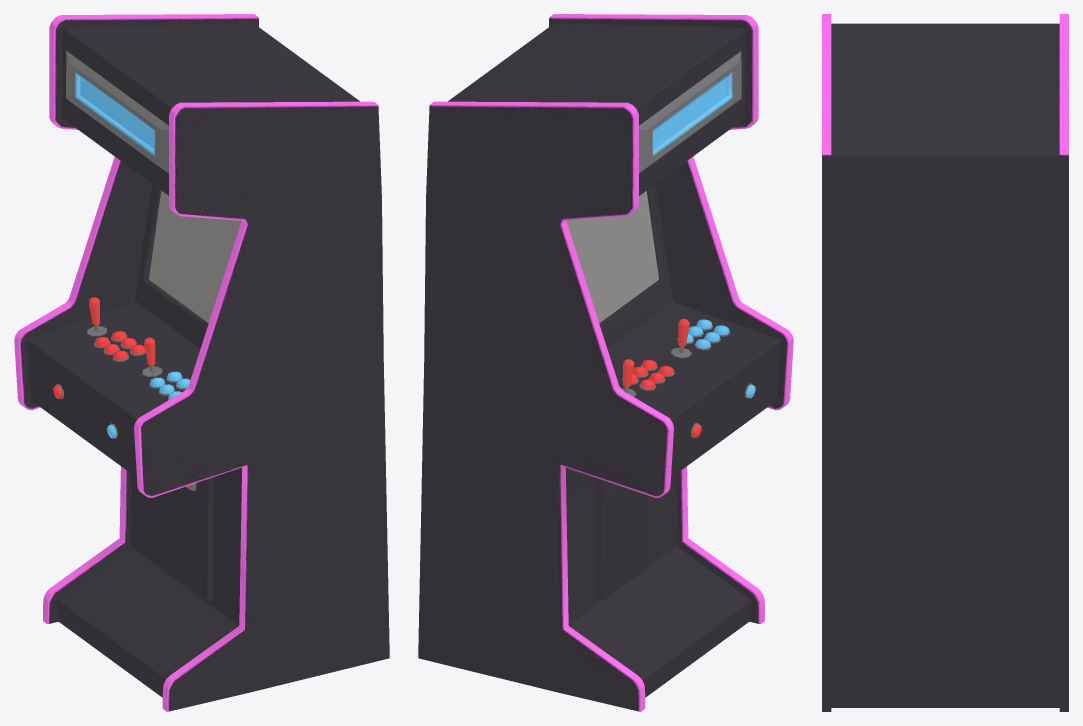
File: arcade_machine.glb
3 renders of one model, left to right at view 1: azimuth 30°, elevation 25°; view 2: azimuth 150°, elevation 25°; view 3: azimuth 270°, elevation 25°, orthographic.
Visible parts, largest first — view 1: defaultMaterial; view 2: defaultMaterial; view 3: defaultMaterial.
Boxes of the visible parts, x1=… form: defaultMaterial: x1=14, y1=14, x2=389, y2=711; defaultMaterial: x1=418, y1=14, x2=793, y2=711; defaultMaterial: x1=822, y1=14, x2=1068, y2=711.
Bounding box in the file's own units: 2.76 × 6.33 × 2.37.
Materials: 1 (1 with a texture image).
